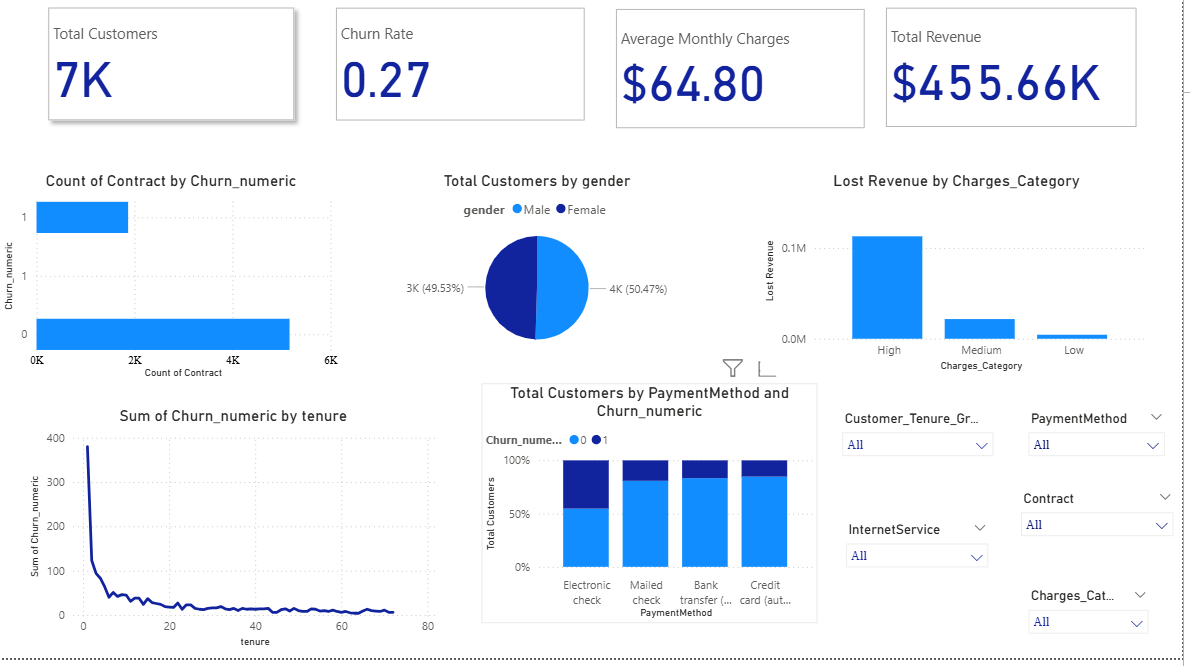

This screenshot's page, from the dashboard's own definition file:
{"tool":"powerbi","page":{"name":"Page 1","canvas":[1280,720],"ordinal":0},"visuals":[{"type":"cardVisual","fields":{"Data":["customer_churn.Total Customers"]},"box":[18.9,29.7,300.1,156.8],"z":0},{"type":"cardVisual","fields":{"Data":["customer_churn.Churn Rate"]},"box":[339.3,41.9,279.8,132.5],"z":1000},{"type":"cardVisual","fields":{"Data":["customer_churn.Average Monthly Charges"]},"box":[635.4,41.9,279.8,139.2],"z":2000},{"type":"cardVisual","fields":{"Data":["customer_churn.Total Revenue"]},"box":[935.5,44.6,281.2,139.2],"z":3000},{"type":"clusteredBarChart","fields":{"Y":["CountNonNull(customer_churn.Contract)"],"Category":["customer_churn.Churn_numeric"]},"box":[0,193.3,371.8,229.8],"z":4000},{"type":"pieChart","fields":{"Category":["customer_churn.gender"],"Y":["customer_churn.Total Customers"]},"box":[388,193.3,388,202.8],"z":5000},{"type":"hundredPercentStackedColumnChart","fields":{"Series":["customer_churn.Churn_numeric"],"Category":["customer_churn.PaymentMethod"],"Y":["customer_churn.Total Customers"]},"box":[521.8,423.2,363.7,259.6],"z":6000},{"type":"lineChart","fields":{"Y":["Sum(customer_churn.Churn_numeric)"],"Category":["customer_churn.tenure"]},"box":[28.4,447.5,450.2,266.3],"z":7000},{"type":"slicer","fields":{"Values":["customer_churn.Contract"]},"box":[1095.1,534,185.2,94.6],"z":8000},{"type":"slicer","fields":{"Values":["customer_churn.InternetService"]},"box":[905.8,567.8,174.4,89.2],"z":9000},{"type":"slicer","fields":{"Values":["customer_churn.Customer_Tenure_Group"]},"box":[901.7,447.5,183.9,89.2],"z":10000},{"type":"slicer","fields":{"Values":["customer_churn.PaymentMethod"]},"box":[1103.2,447.5,167.6,89.2],"z":11000},{"type":"slicer","fields":{"Values":["customer_churn.Charges_Category"]},"box":[1103.2,639.5,150.1,74.4],"z":14000},{"type":"lineClusteredColumnComboChart","fields":{"Category":["customer_churn.Charges_Category"],"Y":["customer_churn.Lost Revenue"]},"box":[823.3,193.3,424.5,221.7],"z":15000}]}

Visuals, with their boxes in screenshot pixels (x1, y1, x2, y2), scaled from the page's 1280x720 canvas onto the 1190x666 screenshot:
cardVisual - customer_churn.Total Customers: BBox(18, 27, 297, 173)
cardVisual - customer_churn.Churn Rate: BBox(315, 39, 576, 161)
cardVisual - customer_churn.Average Monthly Charges: BBox(591, 39, 851, 168)
cardVisual - customer_churn.Total Revenue: BBox(870, 41, 1131, 170)
clusteredBarChart - CountNonNull(customer_churn.Contract) x customer_churn.Churn_numeric: BBox(0, 179, 346, 391)
pieChart - customer_churn.gender x customer_churn.Total Customers: BBox(361, 179, 721, 366)
hundredPercentStackedColumnChart - customer_churn.Churn_numeric x customer_churn.PaymentMethod: BBox(485, 391, 823, 632)
lineChart - Sum(customer_churn.Churn_numeric) x customer_churn.tenure: BBox(26, 414, 445, 660)
slicer - customer_churn.Contract: BBox(1018, 494, 1189, 581)
slicer - customer_churn.InternetService: BBox(842, 525, 1004, 608)
slicer - customer_churn.Customer_Tenure_Group: BBox(838, 414, 1009, 496)
slicer - customer_churn.PaymentMethod: BBox(1026, 414, 1181, 496)
slicer - customer_churn.Charges_Category: BBox(1026, 592, 1165, 660)
lineClusteredColumnComboChart - customer_churn.Charges_Category x customer_churn.Lost Revenue: BBox(765, 179, 1160, 384)
